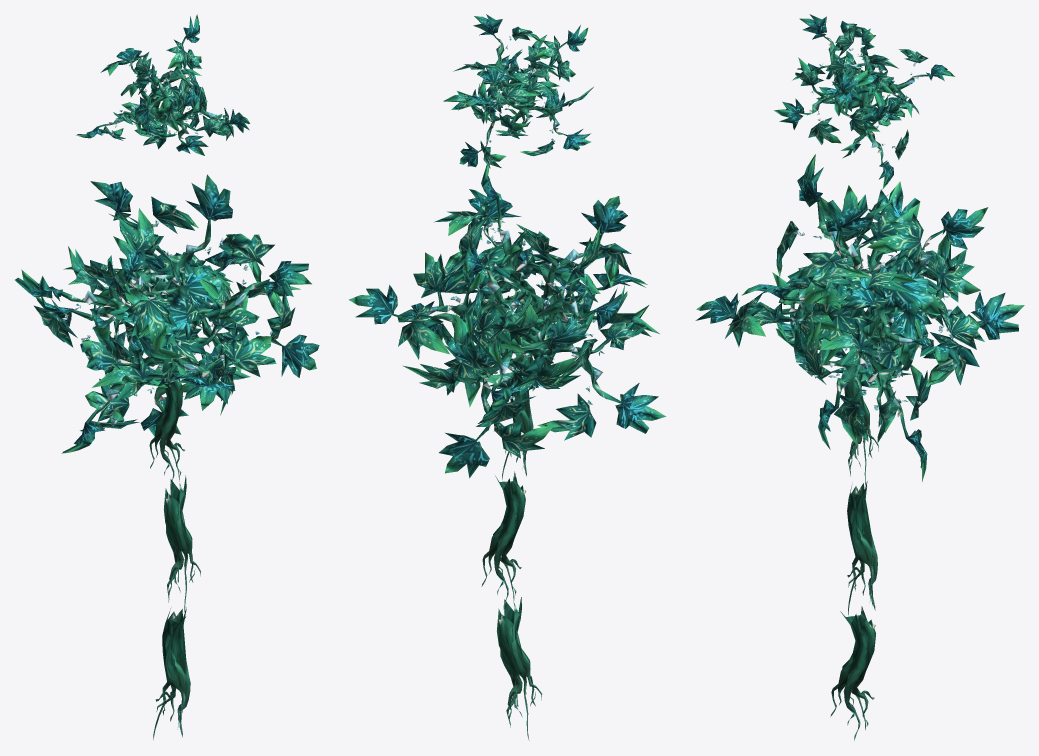
Rendered from bubblegum.glb.
The picture shows the model from 3 angles, left to right: view 1: azimuth 30°, elevation 25°; view 2: azimuth 150°, elevation 25°; view 3: azimuth 270°, elevation 25°; orthographic projection.
Visible parts, largest first — view 1: Mesh; view 2: Mesh; view 3: Mesh.
Boxes of the visible parts, x1,y1,x2,y2 form: Mesh: [14, 14, 319, 739]; Mesh: [349, 14, 665, 740]; Mesh: [695, 14, 1024, 740].
Bounding box in the file's own units: 0.4948 × 1.28 × 0.5296.
Materials: 1 (1 with a texture image).
